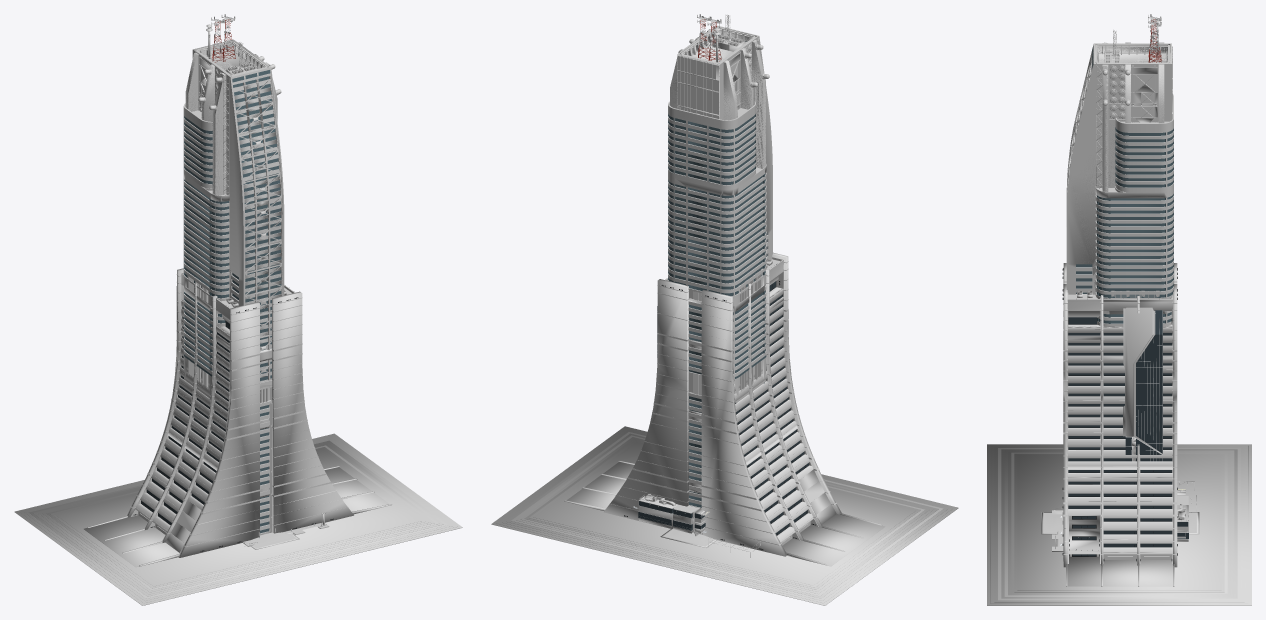
Rendered from towers_lod1.glb.
3 views of the same model, side by side, from view 1: azimuth 30°, elevation 25°; view 2: azimuth 150°, elevation 25°; view 3: azimuth 270°, elevation 25° (orthographic). The views are drawn at different scales.
Visible parts, largest first — view 1: LOD1_XL_Bldg_C, LOD1_TowerF; view 2: LOD1_XL_Bldg_C, LOD1_TowerF, LOD1_BldgLG_E; view 3: LOD1_XL_Bldg_C, LOD1_TowerF, LOD1_BldgLG_E.
Boxes of the visible parts, x1,y1,x2,y2 form: LOD1_XL_Bldg_C: [14, 268, 462, 605]; LOD1_TowerF: [183, 14, 284, 535]; LOD1_XL_Bldg_C: [491, 252, 958, 605]; LOD1_TowerF: [668, 14, 772, 527]; LOD1_BldgLG_E: [633, 306, 760, 557]; LOD1_XL_Bldg_C: [987, 263, 1251, 605]; LOD1_TowerF: [1066, 14, 1173, 326]; LOD1_BldgLG_E: [1052, 307, 1196, 551].
Size of the model in its own units: 150 by 219 by 104.
